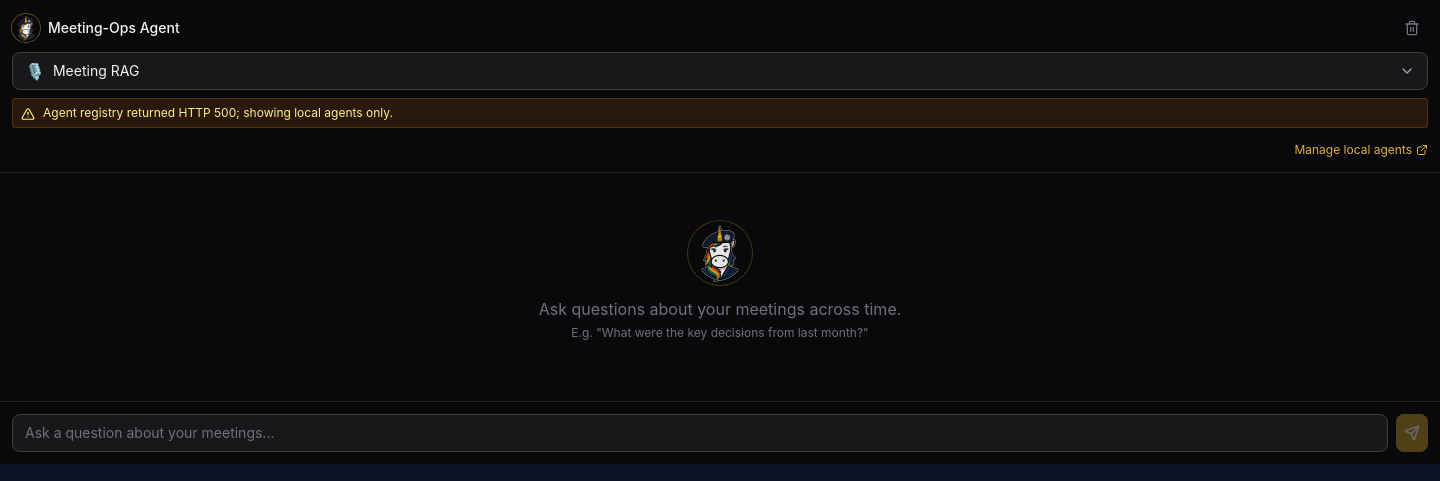
it: AgentPicker › falls back to local-only when the agents endpoint errors
The width and height of the screenshot is (1440, 481).
Expected: the field with placeholder "Ask a question about your meetings..." is shown, x1=12 y1=414 x2=1388 y2=452
Expected: the element with test id "agent-warnings" is shown, x1=12 y1=98 x2=1428 y2=128
Note: Open the picker — should only show the local fallback
Step 1. Click the button with test id "agent-picker-button" → click(96, 70), box x1=12 y1=52 x2=1428 y2=90
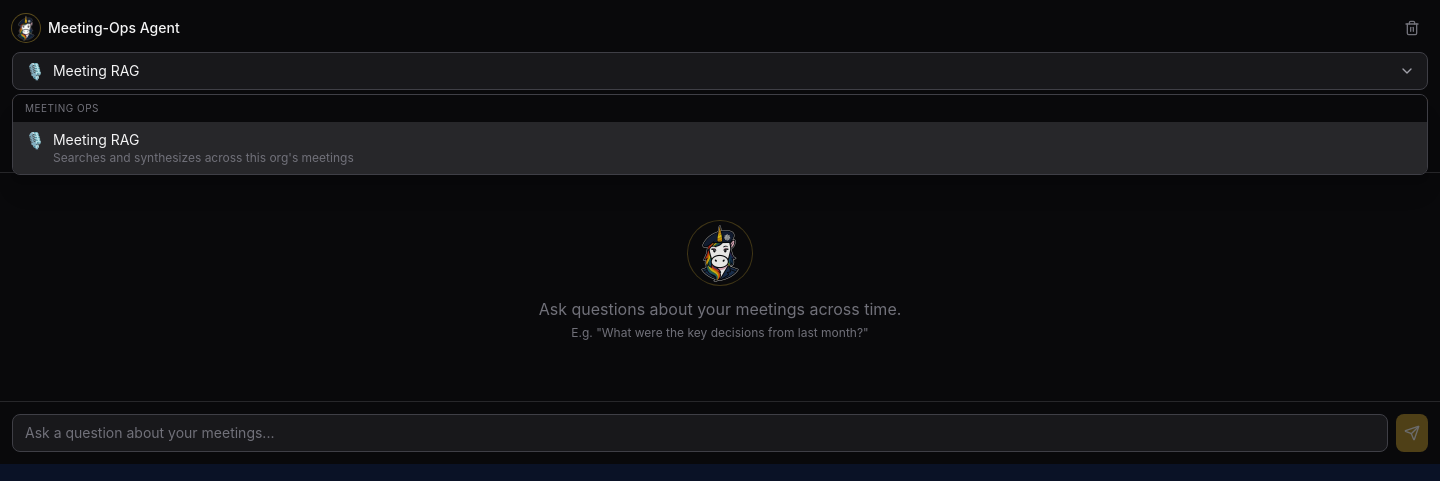
Result: the option with test id "agent-option-meeting-rag" is shown at x1=13 y1=122 x2=1427 y2=174
